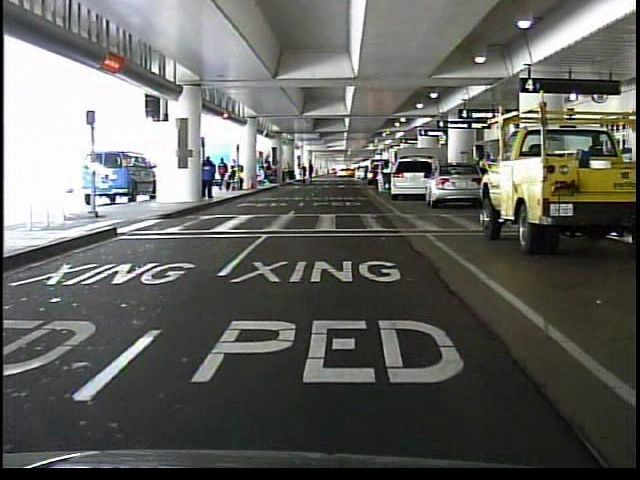person: (199, 153, 219, 203)
